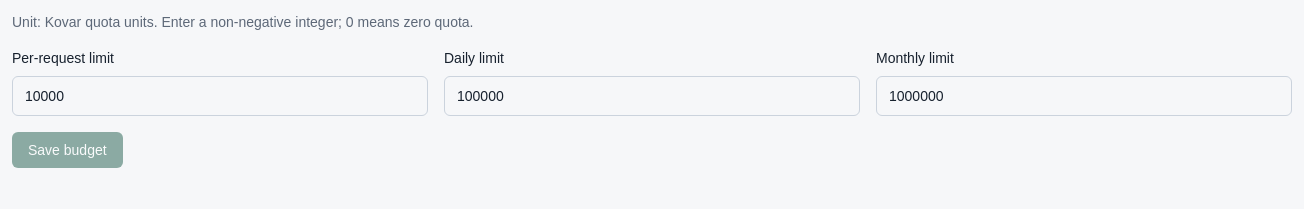
Test case: Agent management UI › validates budgets before any mutation
Replace the text in the field labelled "Daily limit" with "-1": (652, 96) [444,76,860,116]
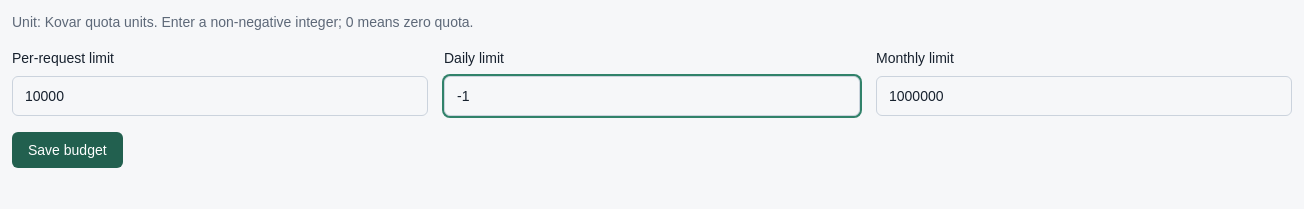
Click the button "Save budget": (67, 150) [12,132,123,168]
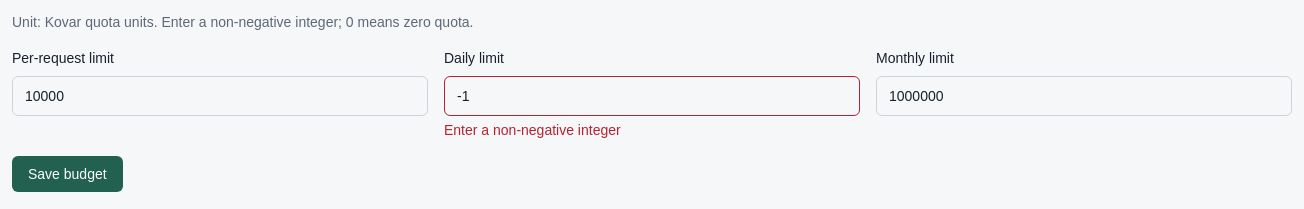
Expected: the text "Enter a non-negative integer" is shown, [444,122,621,138]
